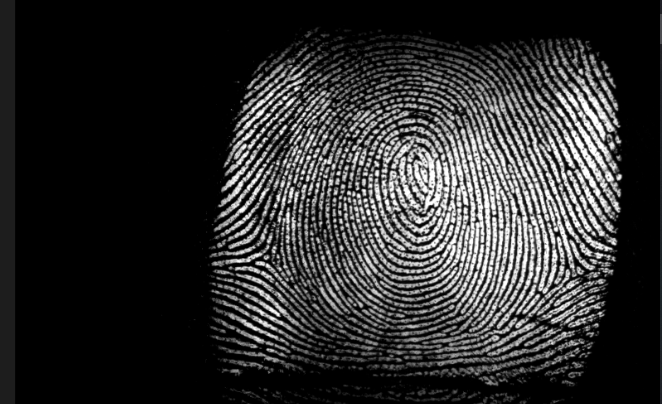nucelo: (410, 155, 426, 184)
verticilo: (559, 259, 594, 283), (251, 246, 277, 270)
